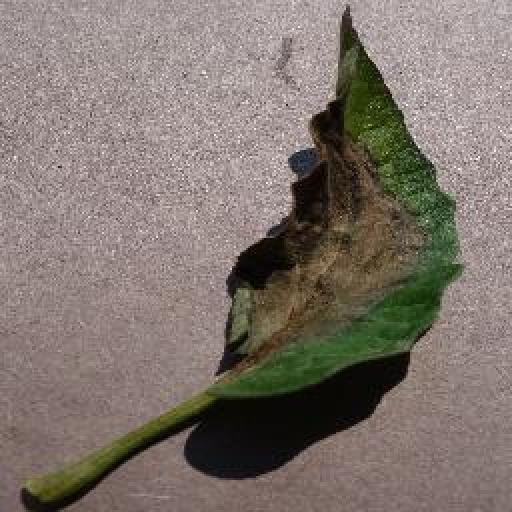Late Blight: (201, 0, 460, 399)
